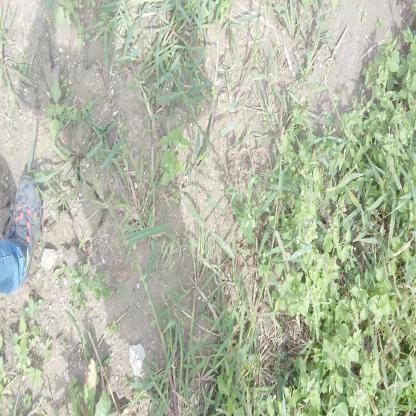flower: (312, 254, 314, 258)
